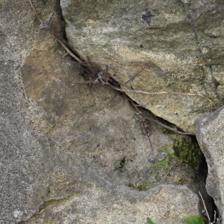Crack: (72, 0, 196, 92), (63, 56, 128, 167)
